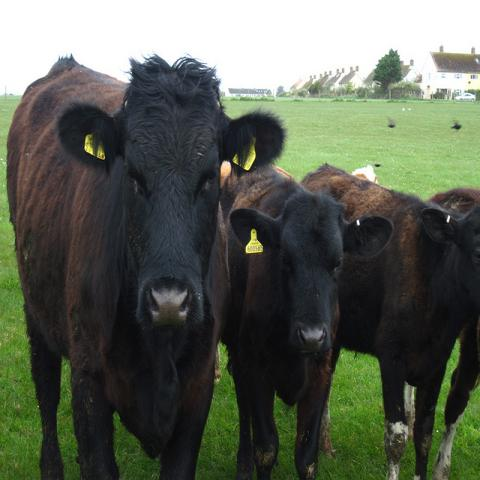car: (455, 92, 475, 102)
